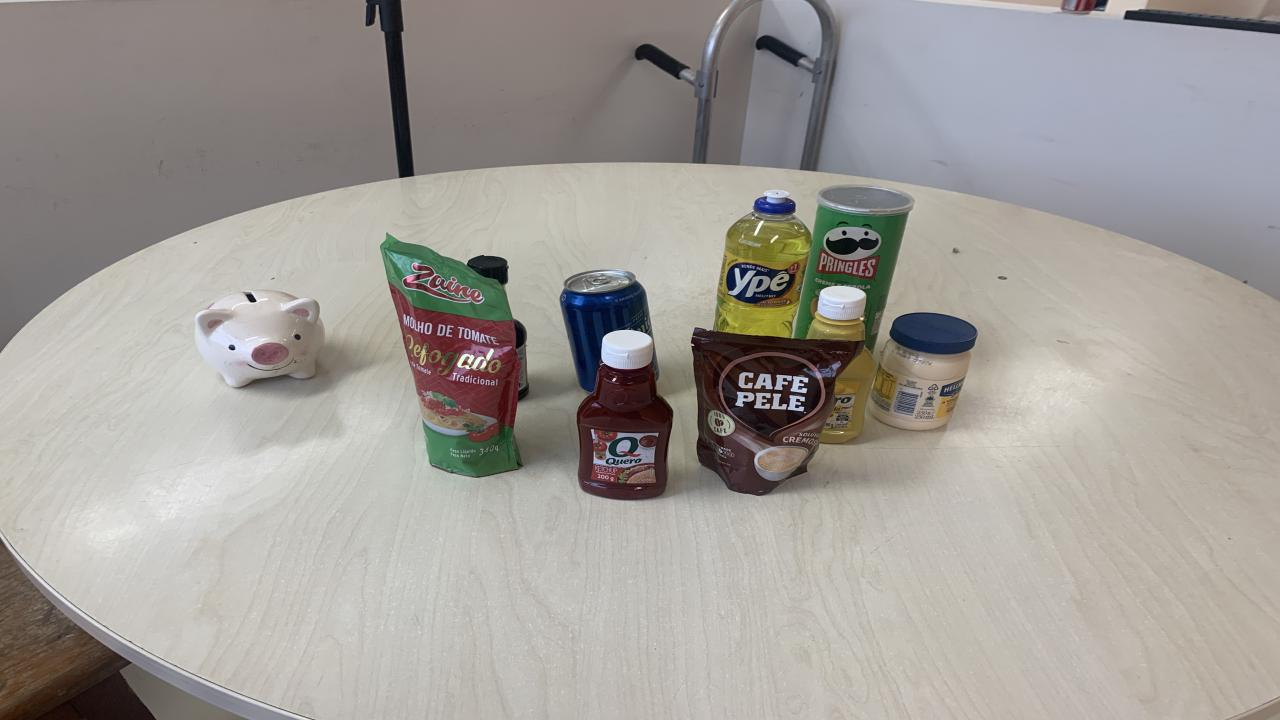Coffee-Pantry_Items: (692, 328, 860, 495)
Detergent-Cleanup_Items: (712, 189, 810, 338)
English_Sauce-Pantry_Items: (512, 321, 530, 399), (468, 255, 508, 285)
Ketchup-Pantry_Items: (578, 330, 672, 499)
Mayonnaise-Pantry_Items: (870, 313, 978, 429)
Mustard-Pantry_Items: (820, 349, 875, 442), (808, 287, 865, 343)
Pig_Safe-Miscellaneous: (195, 291, 325, 388)
Pringles-Snacks: (795, 184, 915, 351)
Tomato_Sauce-Pantry_Items: (380, 234, 520, 476)
Tonic-Drinks: (560, 270, 652, 392)
